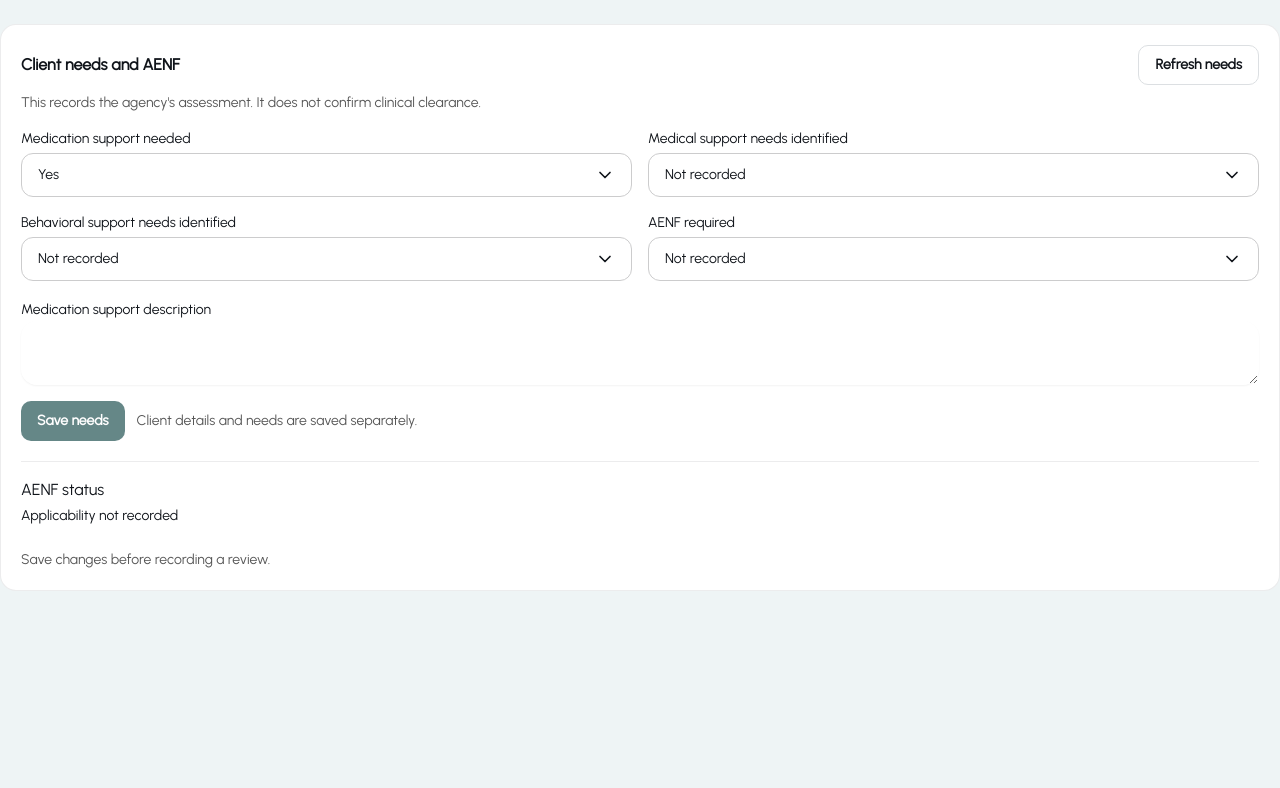
Test: client needs › keeps draft text on conflict and requires an explicit reload before saving
Earlier steps of the test are not shown.
Type "Keep my edits" into the text box labelled "Medication support description" at (640, 353), box [21,321,1259,385]
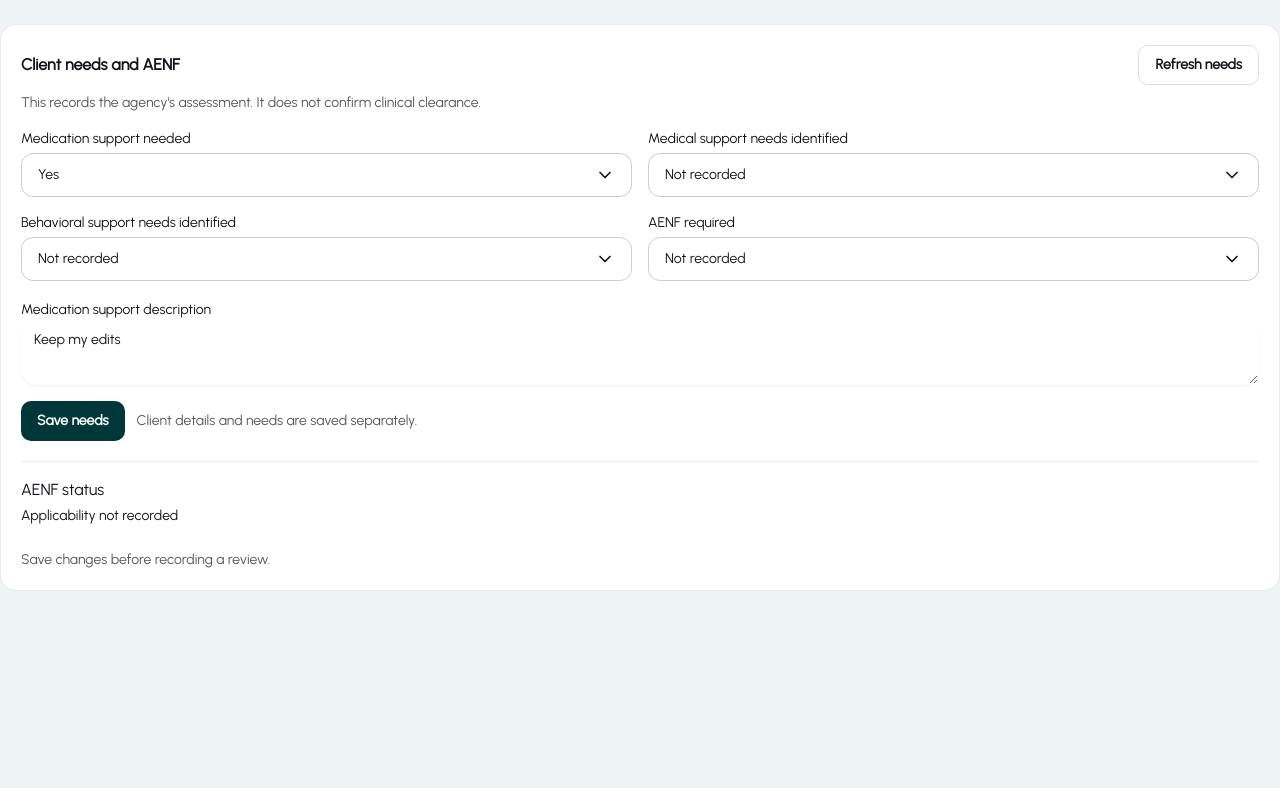
Click the button "Save needs" at (73, 421), box [21,401,125,441]
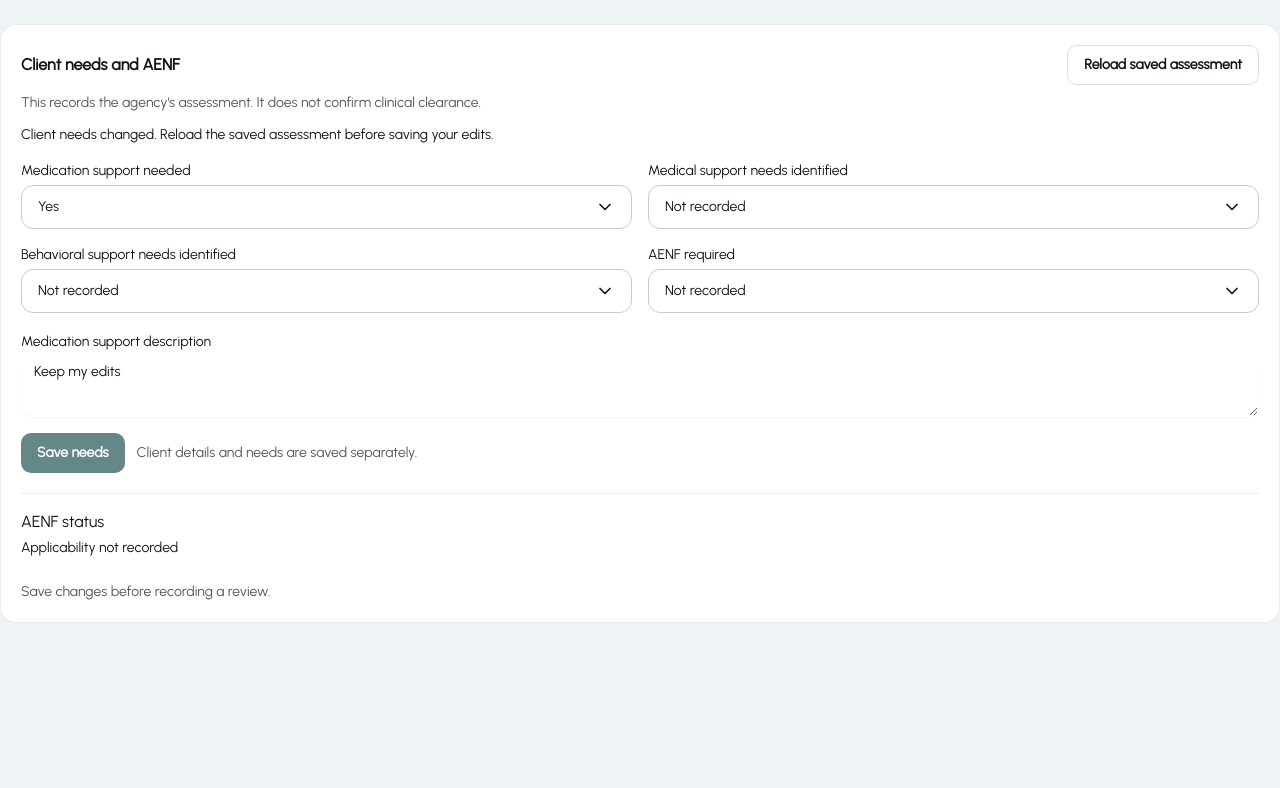
expect the button "Reload saved assessment" is shown: met
expect the button "Save needs" is disabled: met, box [21,433,125,473]
Click the button "Reload saved assessment" at (1163, 65), box [1067,45,1259,85]
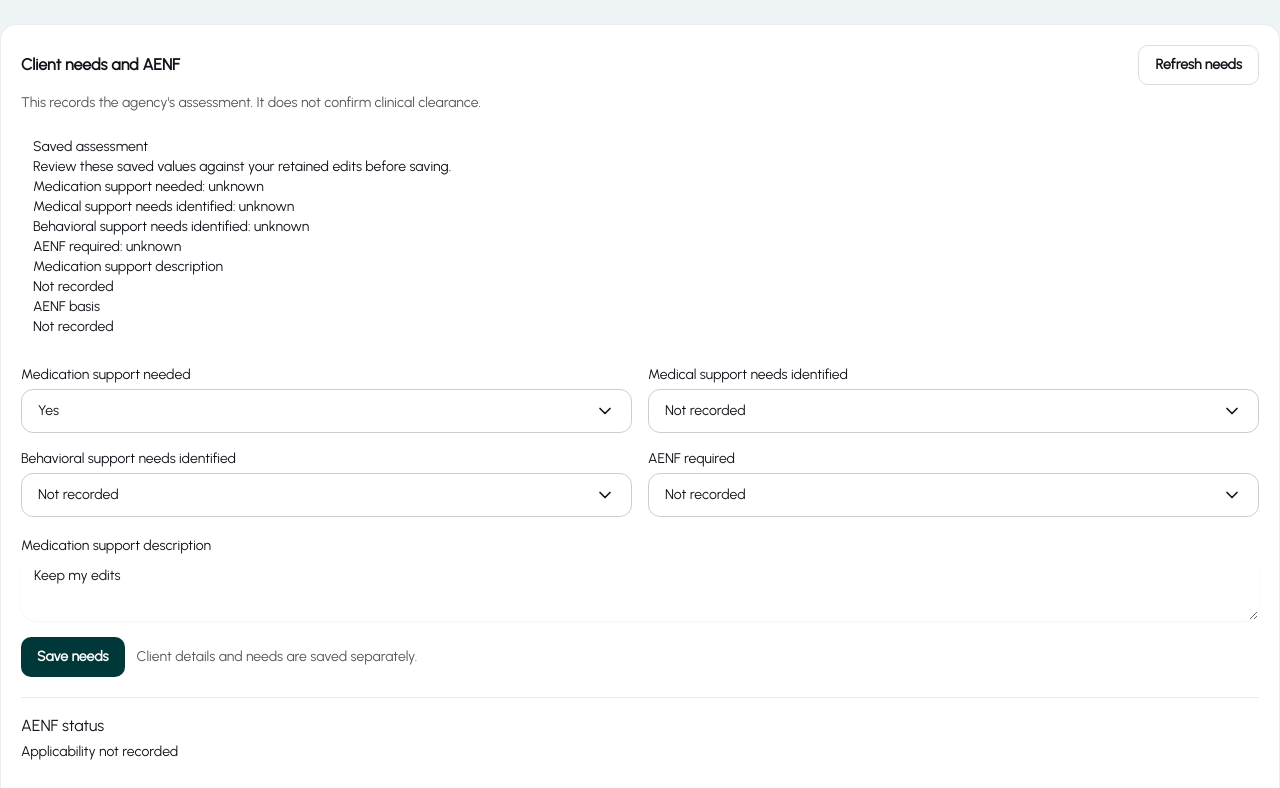
expect the heading "Saved assessment" is shown: met, box [33,138,148,155]
expect the button "Save needs" is enabled: met, box [21,637,125,677]
